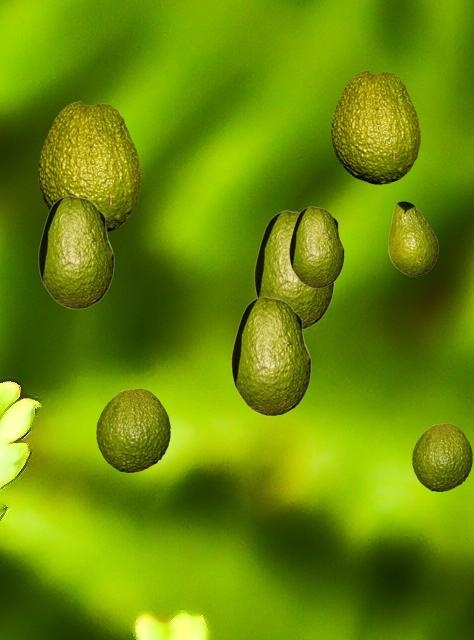avocado: (38, 101, 140, 232), (331, 70, 419, 183), (254, 210, 333, 329), (231, 296, 310, 415), (38, 195, 113, 308), (96, 388, 169, 471), (289, 206, 343, 287), (412, 423, 471, 490), (388, 201, 437, 275)
